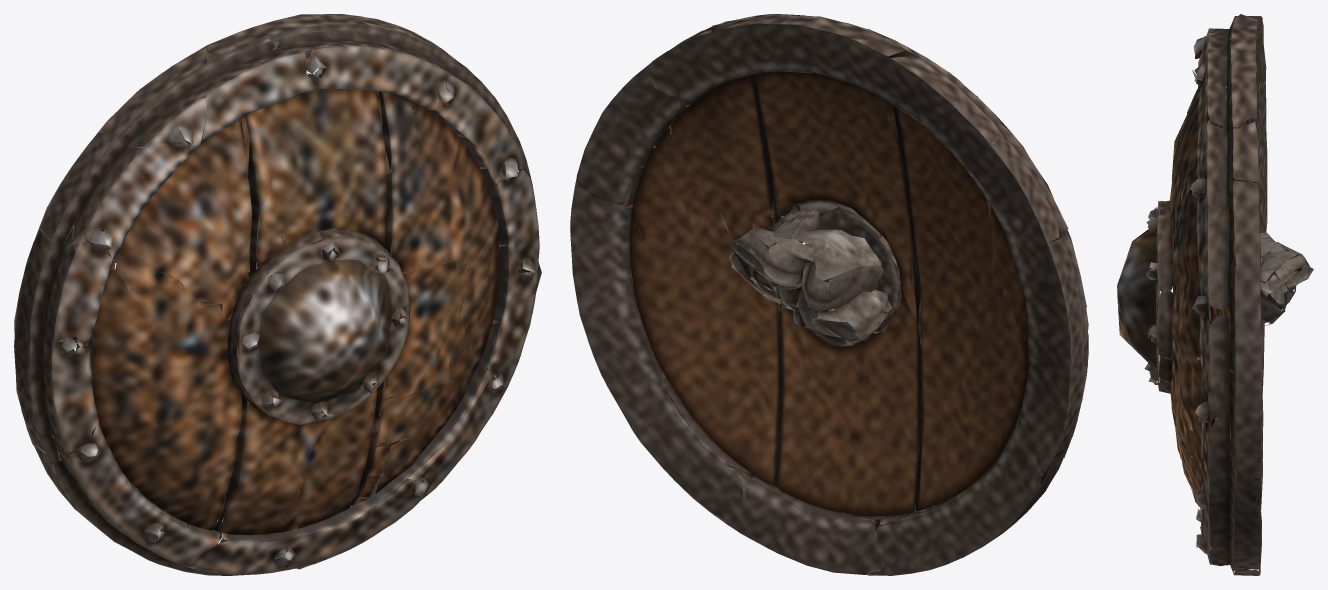
File: wood_buckler.glb
The picture shows the model from 3 angles, left to right: view 1: azimuth 30°, elevation 25°; view 2: azimuth 150°, elevation 25°; view 3: azimuth 270°, elevation 25°; orthographic projection. The views are drawn at different scales.
Visible parts, largest first — view 1: wood_buckler; view 2: wood_buckler; view 3: wood_buckler.
Boxes of the visible parts, box(x1,y1,x2,y2) form: wood_buckler: box(14, 14, 541, 575); wood_buckler: box(570, 14, 1088, 575); wood_buckler: box(1117, 14, 1313, 575).
Size of the model in its own units: 0.5301 by 0.5395 by 0.1886.
1 material, 1 textured.
